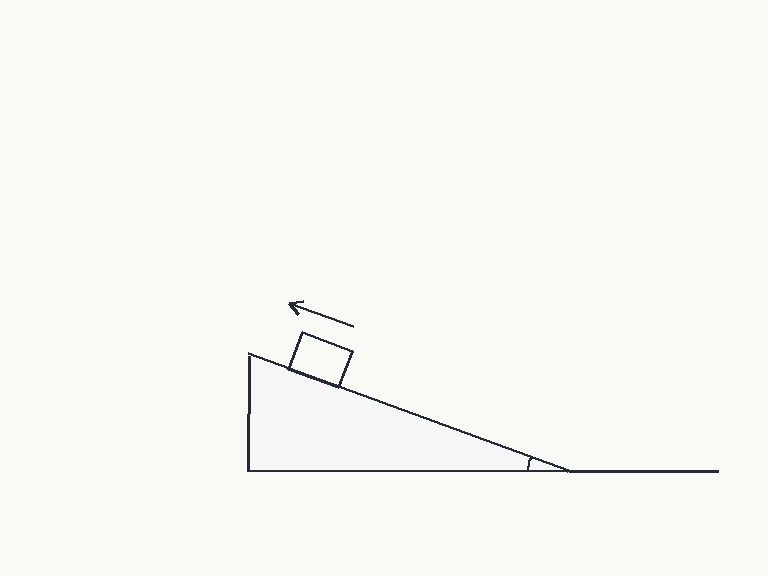block: (286, 330, 353, 389)
ramp: (246, 352, 570, 473)
